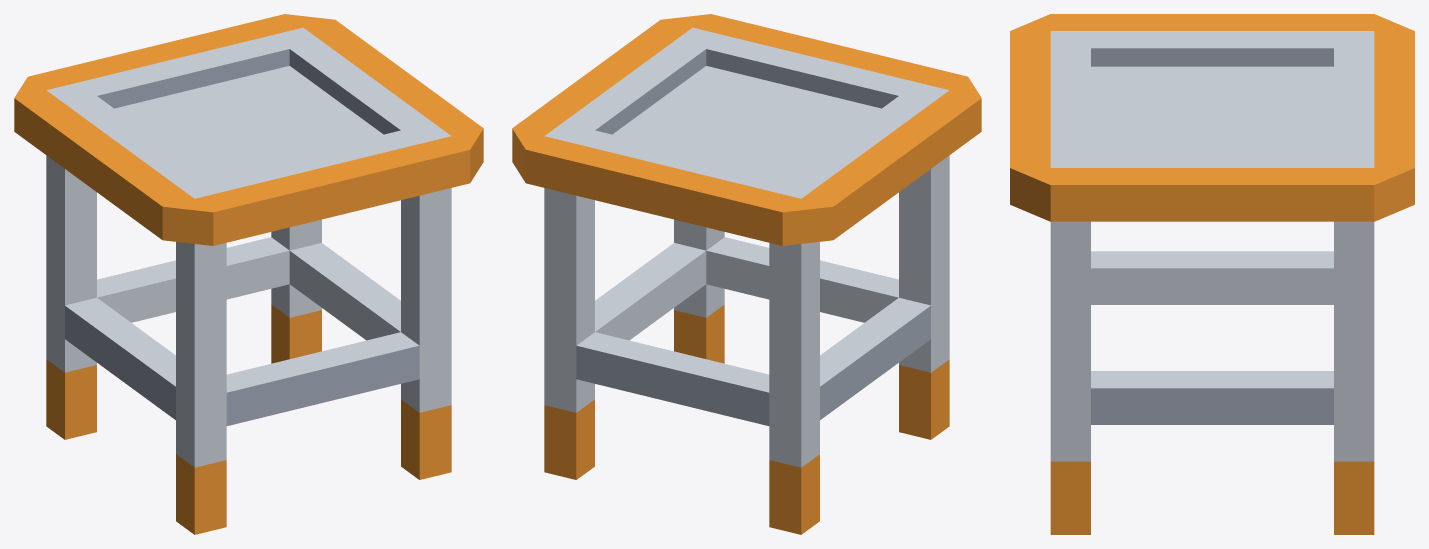
Rendered from platform_high.glb.
The picture shows the model from 3 angles, left to right: view 1: azimuth 30°, elevation 25°; view 2: azimuth 150°, elevation 25°; view 3: azimuth 270°, elevation 25°; orthographic projection. The views are drawn at different scales.
Parts seen in each view (by area): view 1: platform_high; view 2: platform_high; view 3: platform_high.
Boxes of the visible parts, box(x1,y1,x2,y2) form: platform_high: box(14, 14, 483, 534); platform_high: box(512, 14, 981, 534); platform_high: box(1010, 14, 1414, 534).
Bounding box in the file's own units: 1 × 1 × 1.
